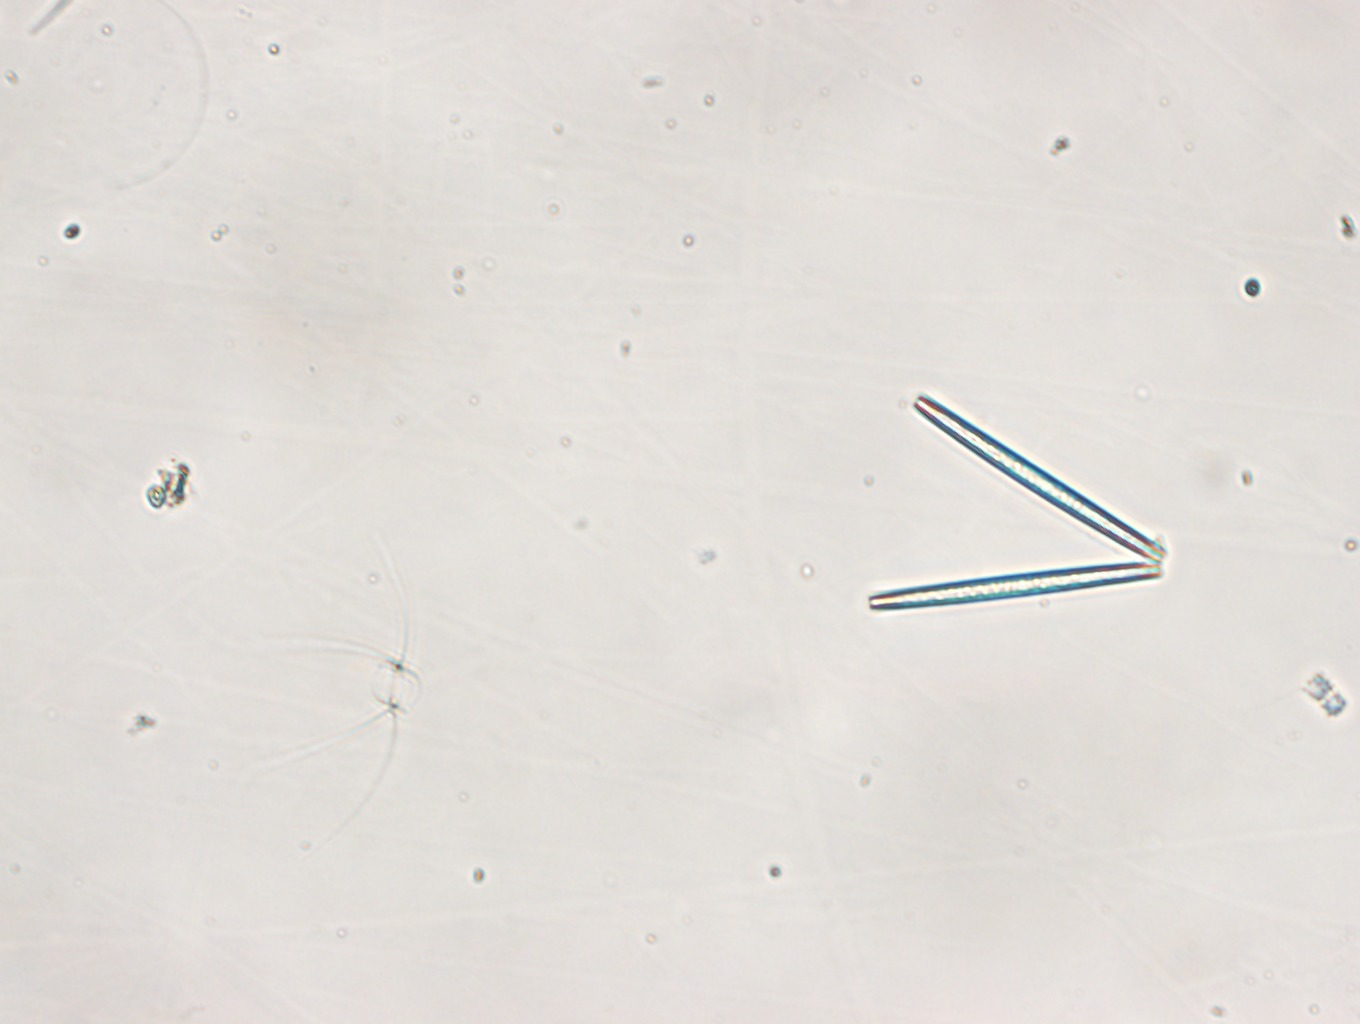thalassionema nitzschioides: (858, 386, 1170, 612)
